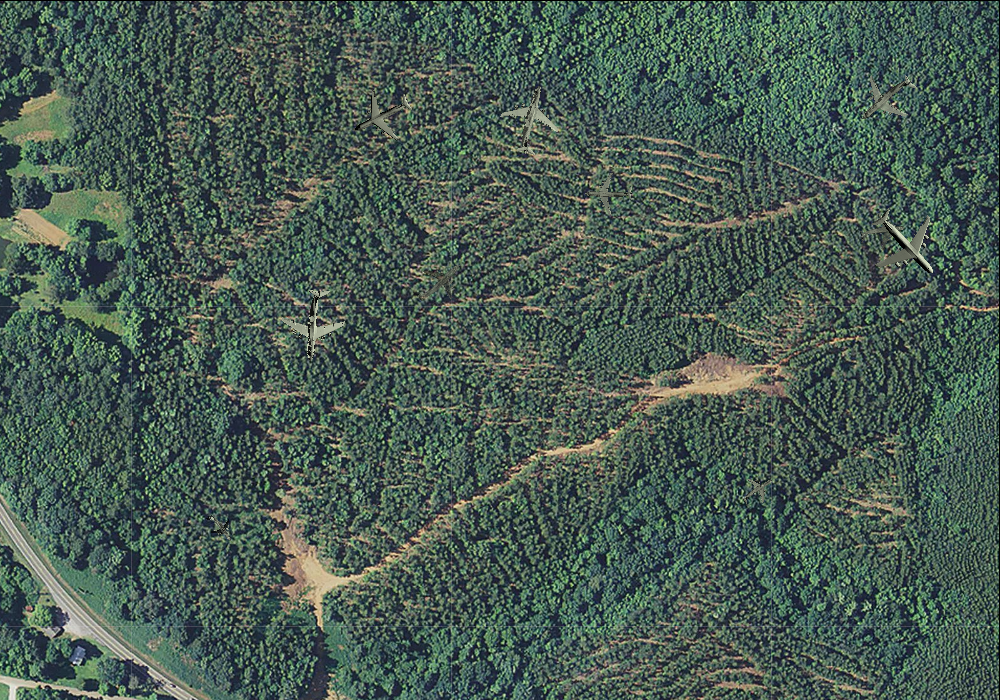plane: (852, 189, 959, 297), (844, 55, 931, 142), (490, 77, 573, 162), (342, 75, 422, 154), (277, 286, 351, 363), (402, 245, 474, 317), (857, 208, 908, 255), (584, 169, 633, 216), (733, 467, 781, 514), (198, 506, 240, 549)
